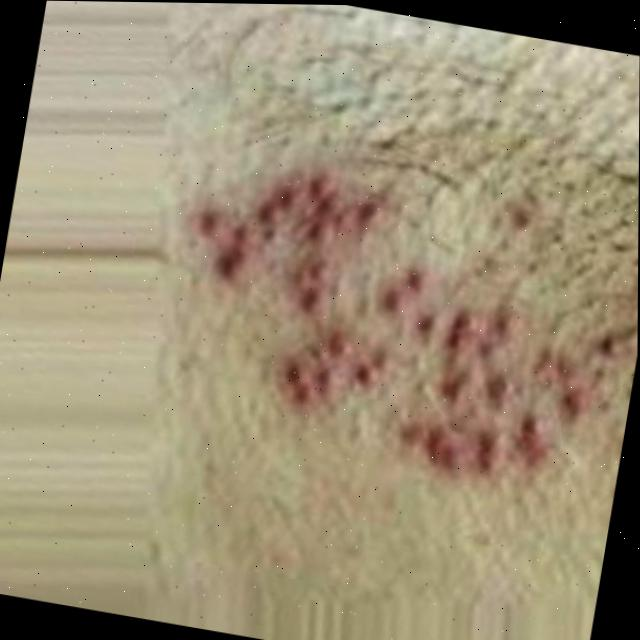Shingles: (161, 154, 639, 491)
